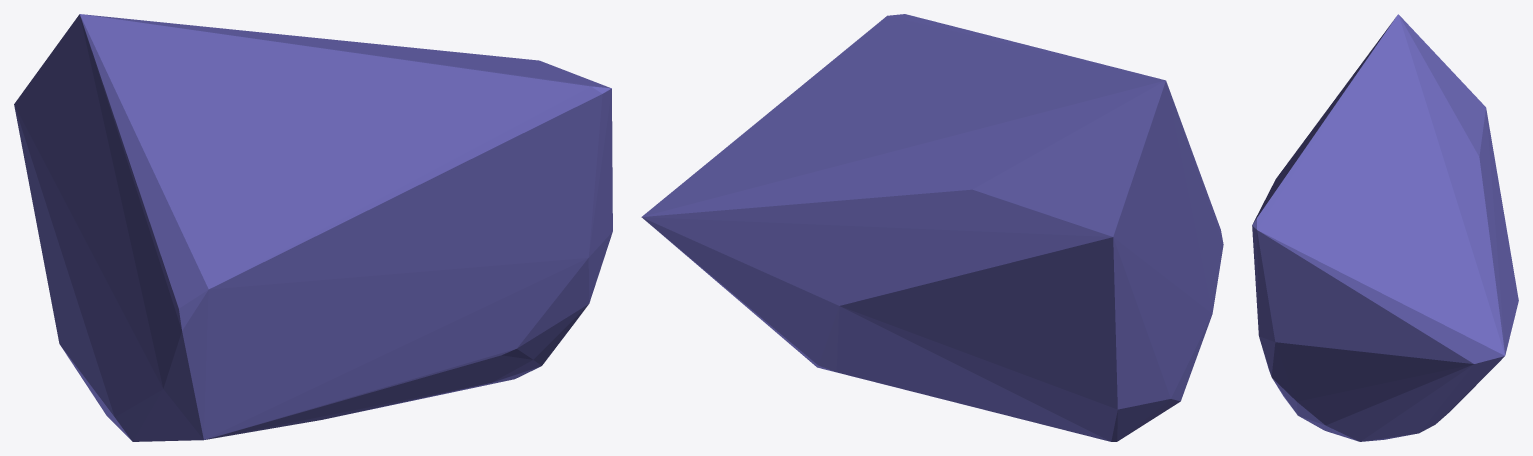
The model's file is engineComponent_turbocompressor_a01.glb.
3 views of the same model, side by side, from view 1: azimuth 30°, elevation 25°; view 2: azimuth 150°, elevation 25°; view 3: azimuth 270°, elevation 25° (orthographic). The views are drawn at different scales.
Parts seen in each view (by area): view 1: geometry_0; view 2: geometry_0; view 3: geometry_0.
Boxes of the visible parts, x1,y1,x2,y2 form: geometry_0: (14, 14, 612, 441); geometry_0: (641, 14, 1223, 441); geometry_0: (1252, 14, 1518, 441).
Bounding box in the file's own units: 0.4717 × 0.3645 × 0.2931.
